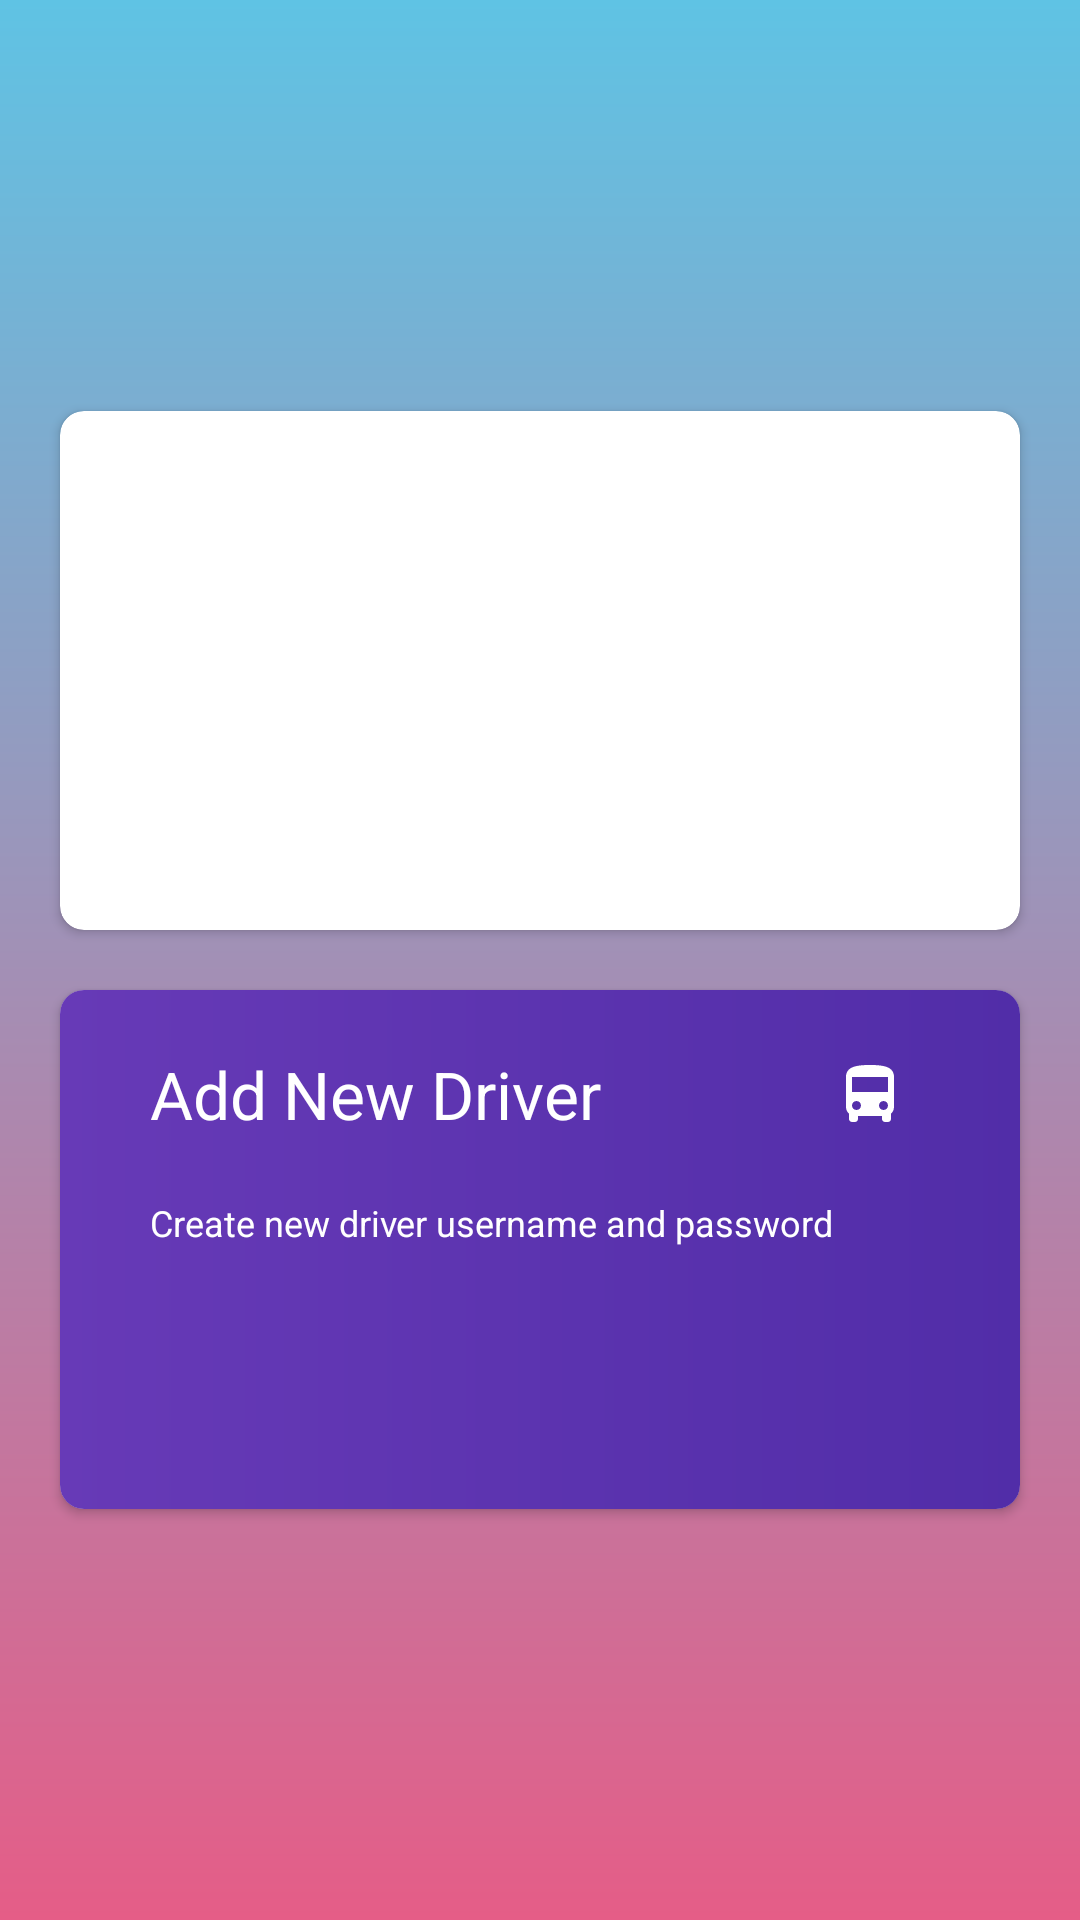

Icons on this 1080px×1920px Android screen, each with its box as (x1, y1, x2, y2):
directions bus: (846, 1065, 894, 1122)
